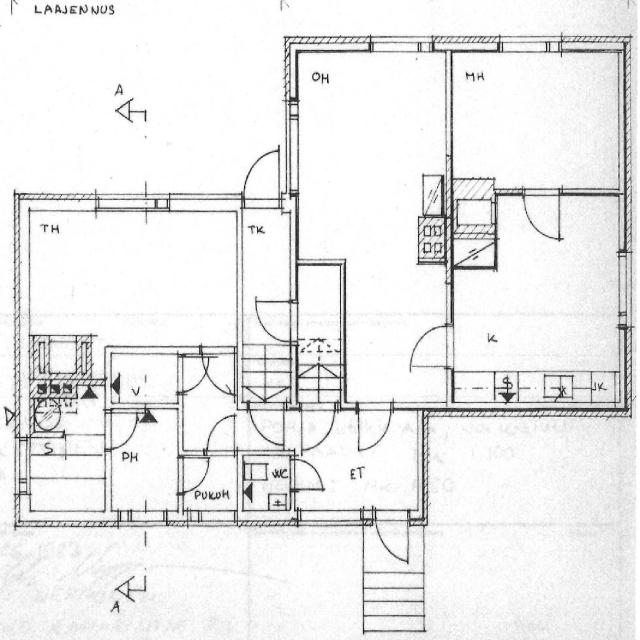door: (107, 405, 180, 526), (204, 401, 287, 451), (241, 145, 283, 204), (521, 185, 564, 242), (406, 322, 451, 371), (354, 399, 394, 454), (373, 509, 411, 565), (254, 298, 296, 346), (248, 399, 286, 449), (299, 402, 337, 452), (106, 406, 141, 452), (202, 351, 236, 397), (204, 411, 239, 455), (177, 352, 211, 396), (178, 452, 210, 496), (291, 456, 326, 493)
window: (365, 35, 436, 57), (614, 250, 632, 327), (297, 512, 364, 531), (442, 277, 457, 326)
zone: (458, 204, 622, 386), (24, 210, 240, 345), (450, 51, 625, 191), (109, 410, 179, 527), (294, 262, 344, 372), (179, 455, 239, 527), (106, 350, 179, 407), (240, 453, 295, 522), (30, 379, 94, 435), (453, 195, 497, 269), (0, 316, 17, 422), (419, 214, 446, 265)
